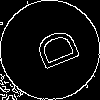D: (25, 25, 81, 76)
